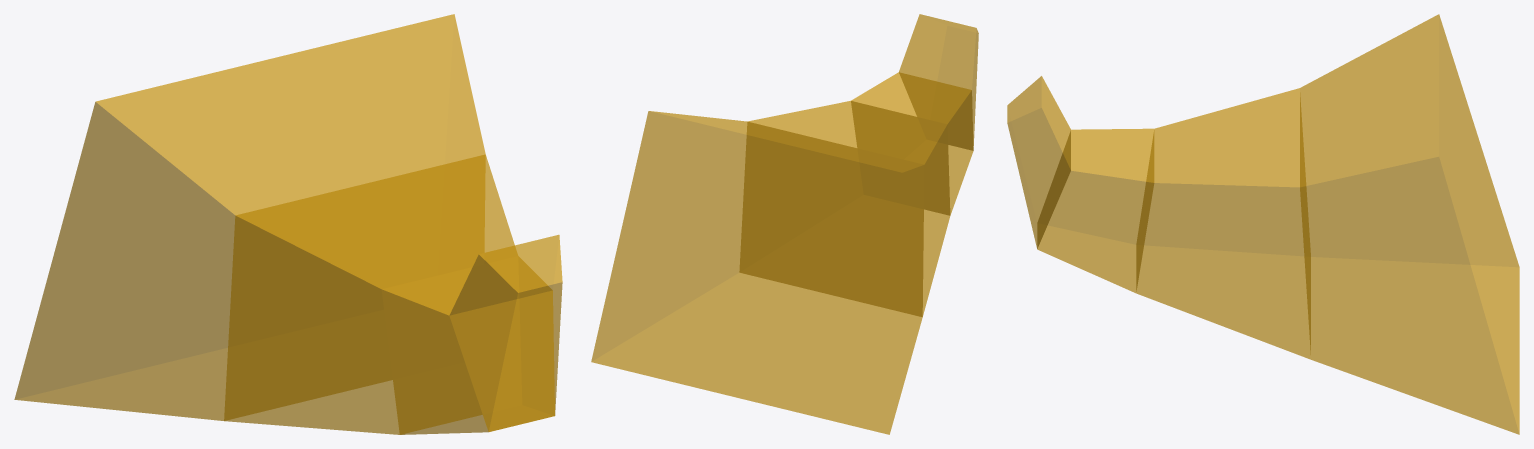
Rendered from SM_Veh_Ship_S_Ram_04_Collision.fbx.
The picture shows the model from 3 angles, left to right: view 1: azimuth 30°, elevation 25°; view 2: azimuth 150°, elevation 25°; view 3: azimuth 270°, elevation 25°; orthographic projection. The views are drawn at different scales.
Visible parts, largest first — view 1: SM_Veh_Ship_S_Ram_04_Collision; view 2: SM_Veh_Ship_S_Ram_04_Collision; view 3: SM_Veh_Ship_S_Ram_04_Collision.
Boxes of the visible parts, <box> form: SM_Veh_Ship_S_Ram_04_Collision: <box>14,14,562,434</box>; SM_Veh_Ship_S_Ram_04_Collision: <box>591,14,978,434</box>; SM_Veh_Ship_S_Ram_04_Collision: <box>1007,14,1519,434</box>.
Size of the model in its own units: 502 by 372 by 649.
